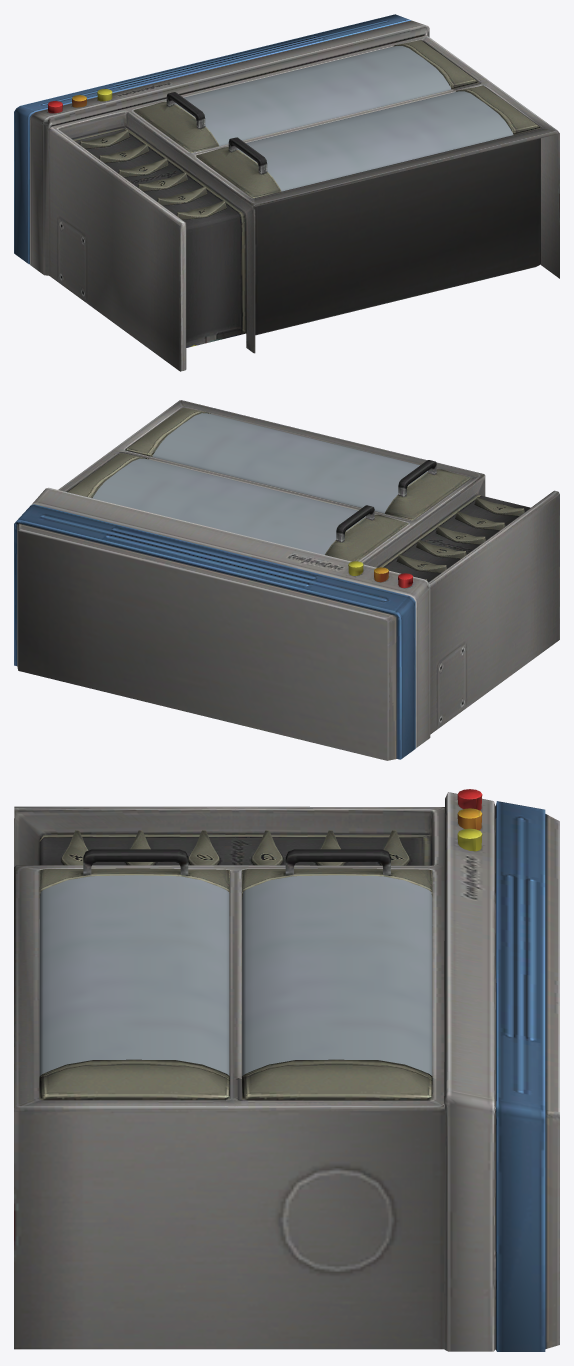
File: nt_2020_cup_warmer_blue_LOD0.obj
The picture shows the model from 3 angles, top to bottom: view 1: azimuth 30°, elevation 25°; view 2: azimuth 150°, elevation 25°; view 3: azimuth 270°, elevation 25°; orthographic projection. The views are drawn at different scales.
Parts seen in each view (by area): view 1: mtl_nt_2020_cup_warmer_blue, glass_clear_mp_model; view 2: mtl_nt_2020_cup_warmer_blue, glass_clear_mp_model; view 3: mtl_nt_2020_cup_warmer_blue, glass_clear_mp_model.
Boxes of the visible parts, bbox=[...] form: mtl_nt_2020_cup_warmer_blue: bbox=[14, 14, 559, 371]; glass_clear_mp_model: bbox=[175, 46, 513, 191]; mtl_nt_2020_cup_warmer_blue: bbox=[14, 400, 559, 760]; glass_clear_mp_model: bbox=[92, 413, 427, 554]; mtl_nt_2020_cup_warmer_blue: bbox=[14, 789, 559, 1351]; glass_clear_mp_model: bbox=[39, 875, 432, 1075].
Size of the model in its own units: 73.02 by 31.17 by 54.72.
